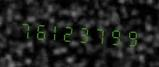nine: (107, 21, 121, 49), (122, 23, 136, 50)
one: (47, 17, 61, 45)
seven: (17, 15, 31, 43), (92, 20, 106, 48)
six: (32, 16, 46, 44)
three: (77, 19, 91, 47)
two: (62, 18, 76, 46)
